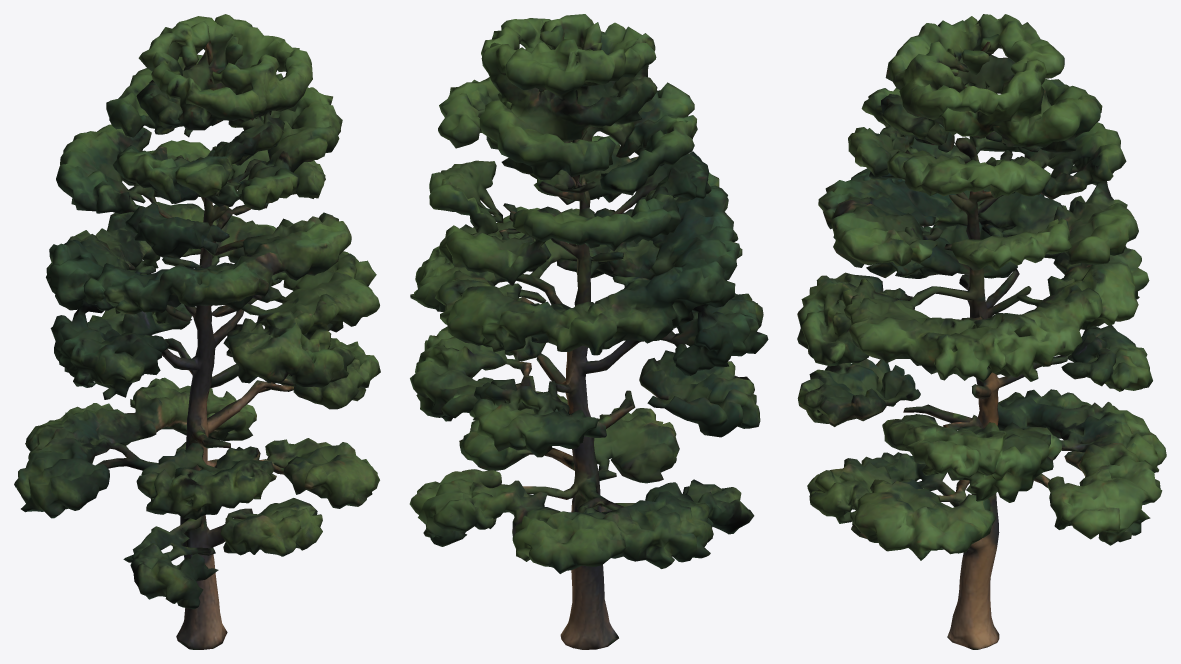
Rendered from AI_PineTree.fbx.
3 renders of one model, left to right at view 1: azimuth 30°, elevation 25°; view 2: azimuth 150°, elevation 25°; view 3: azimuth 270°, elevation 25°, orthographic. The views are drawn at different scales.
Visible parts, largest first — view 1: Mesh_0; view 2: Mesh_0; view 3: Mesh_0.
Boxes of the visible parts, x1,y1,x2,y2 form: Mesh_0: (14,14,380,649); Mesh_0: (409,14,768,649); Mesh_0: (797,14,1166,649).
Bounding box in the file's own units: 111 × 200 × 109.
1 material, 1 textured.
